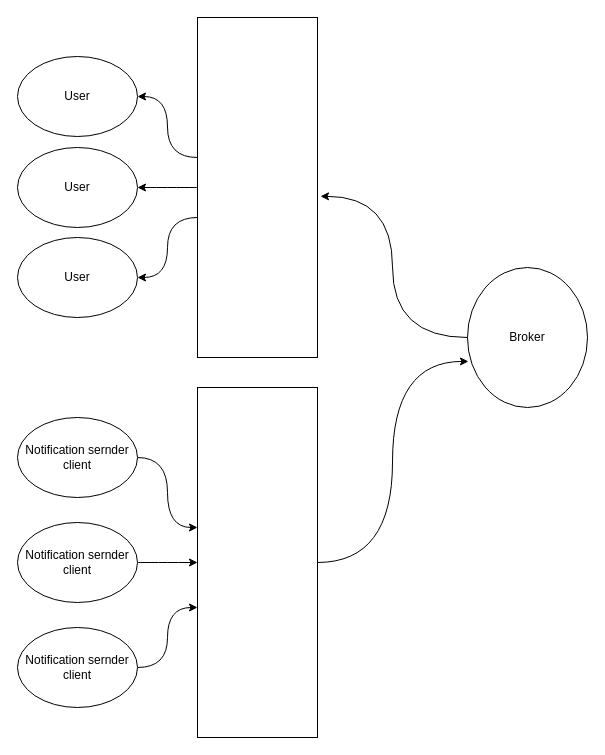
This 605x755 diagram has some shape labels left out. Here are the shapes that lost their labels. From the top down, the centre of each, then its label:
the point at 257,187: WebFlux receiver users listens to Flux events
the point at 257,562: API for sending notifications
